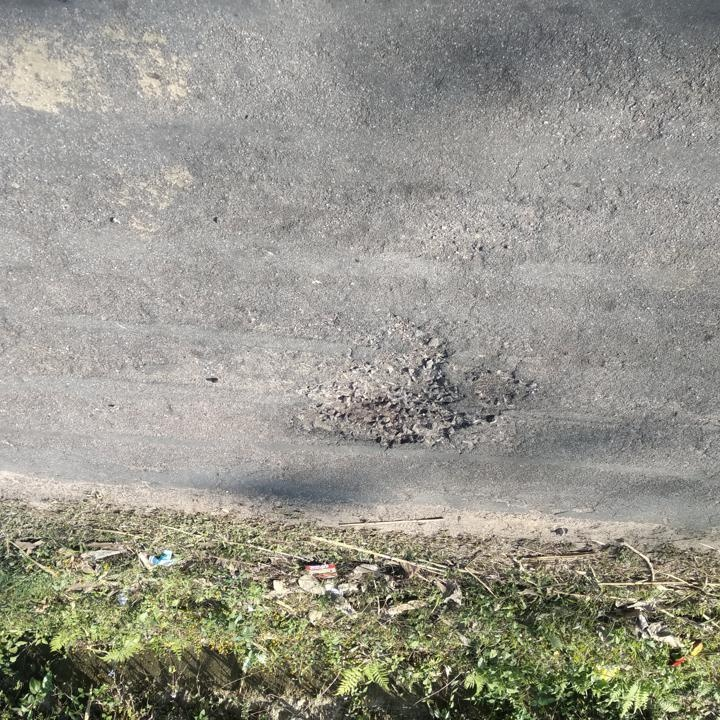pothole: (286, 331, 486, 448)
